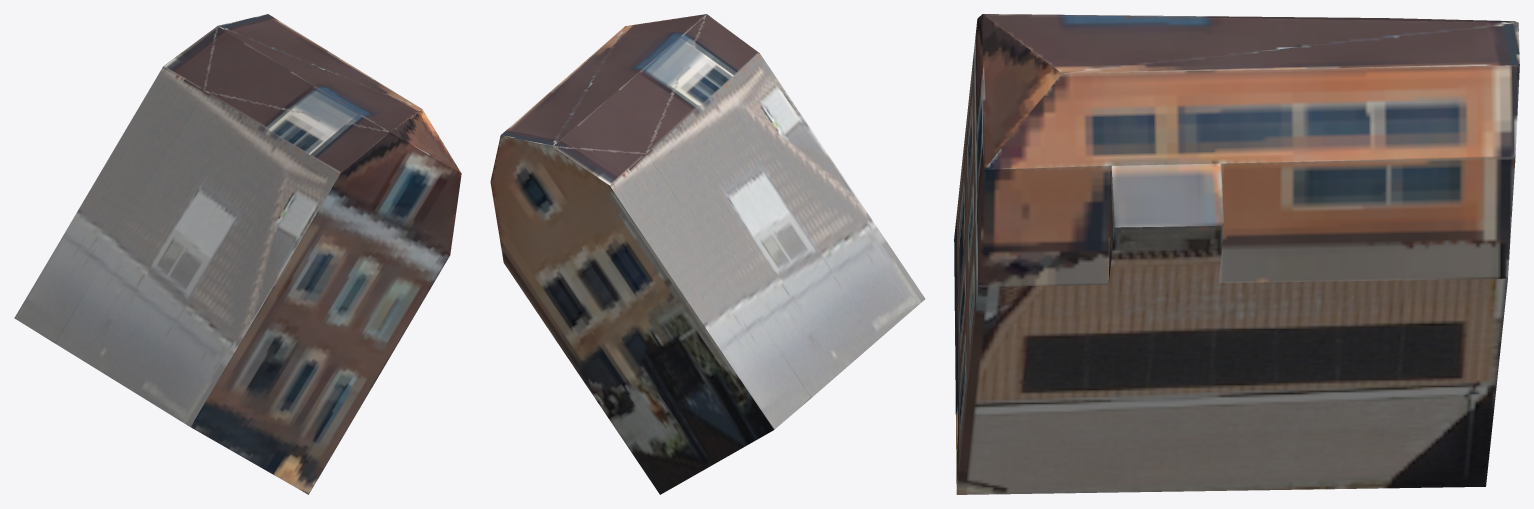
3 views of the same model, side by side, from view 1: azimuth 30°, elevation 25°; view 2: azimuth 150°, elevation 25°; view 3: azimuth 270°, elevation 25° (orthographic). The views are drawn at different scales.
Parts seen in each view (by area): view 1: BAG_0599100000283662 (×3); view 2: BAG_0599100000283662 (×3); view 3: BAG_0599100000283662 (×4).
Boxes of the visible parts, <box> form: BAG_0599100000283662 (×3): <box>14,14,461,494</box>; BAG_0599100000283662 (×3): <box>490,14,925,494</box>; BAG_0599100000283662 (×4): <box>954,14,1519,494</box>.
Size of the model in its own units: 11.01 by 11.24 by 10.32.
1 material, 1 textured.
